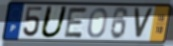5: (23, 6, 44, 38)
6: (110, 6, 129, 41)
E: (62, 6, 90, 40)
O: (86, 7, 109, 39)
U: (39, 4, 70, 39)
V: (133, 7, 155, 41)
